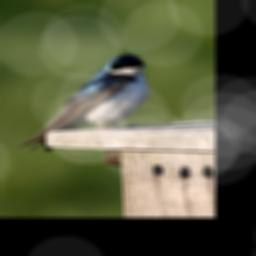Swallow: (18, 53, 151, 157)
